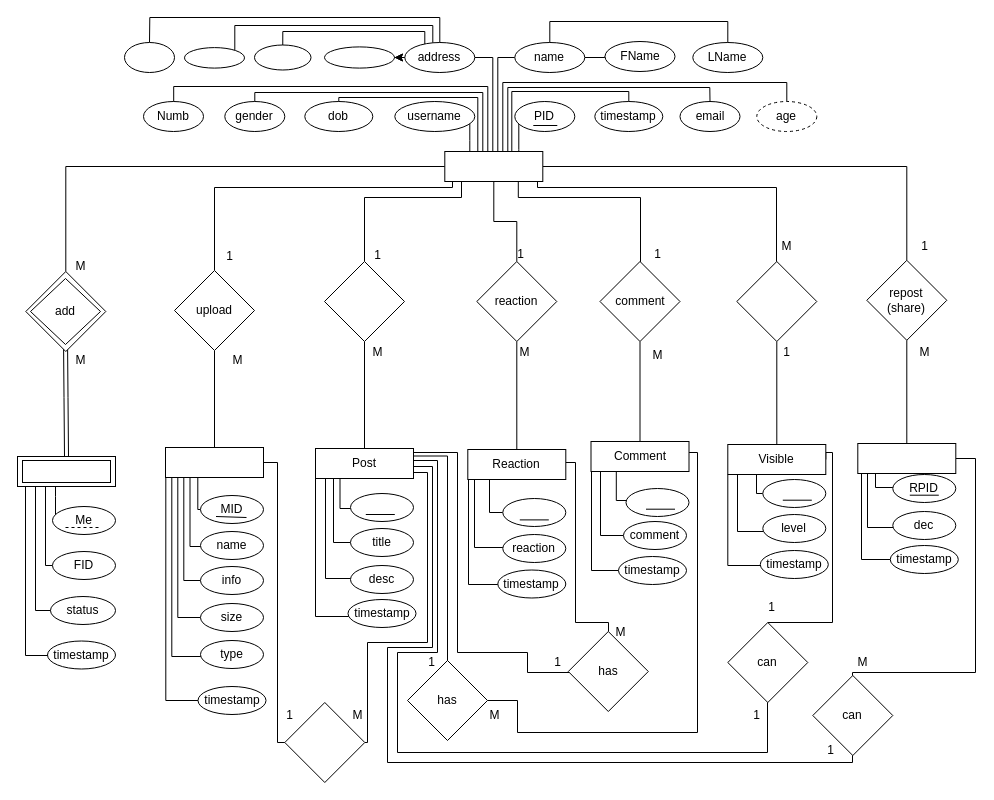
Some shapes in this 994 by 800 pixel diagram are drawn without their labels. The shapes that lost their labels are listed below. From the top down, each one's box as (x1, y1, x2, y2) in pixels, then its label:
(124, 42, 174, 72): region
(184, 47, 244, 68): zip
(254, 44, 311, 70): city
(324, 46, 394, 68): street
(444, 150, 543, 182): Person
(324, 260, 404, 342): create
(736, 260, 817, 342): view
(16, 456, 116, 486): Friend
(164, 446, 264, 478): Media
(857, 442, 956, 474): Repost
(350, 492, 414, 522): POID
(502, 498, 566, 526): RID
(625, 488, 689, 516): CID
(762, 478, 826, 508): VIS
(284, 702, 365, 782): use
